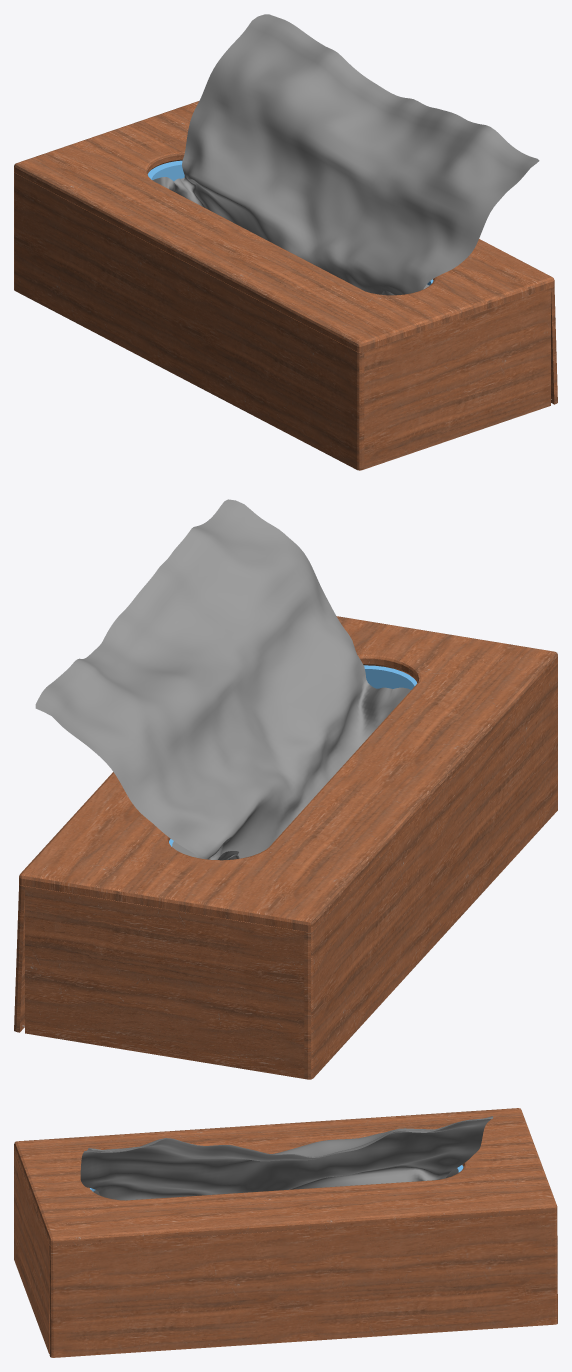
The model's file is tissue.glb.
The picture shows the model from 3 angles, top to bottom: view 1: azimuth 30°, elevation 25°; view 2: azimuth 150°, elevation 25°; view 3: azimuth 270°, elevation 25°; orthographic projection. The views are drawn at different scales.
Parts seen in each view (by area): view 1: Paper_tissue_box_2; view 2: Paper_tissue_box_2; view 3: Paper_tissue_box_2.
Part boxes in pixels (x1,y1,x2,y2): Paper_tissue_box_2: (14,14,557,470); Paper_tissue_box_2: (14,499,557,1079); Paper_tissue_box_2: (14,1108,557,1357).
Size of the model in its own units: 0.1686 by 0.1261 by 0.2871.
Materials: 4 (1 with a texture image).
